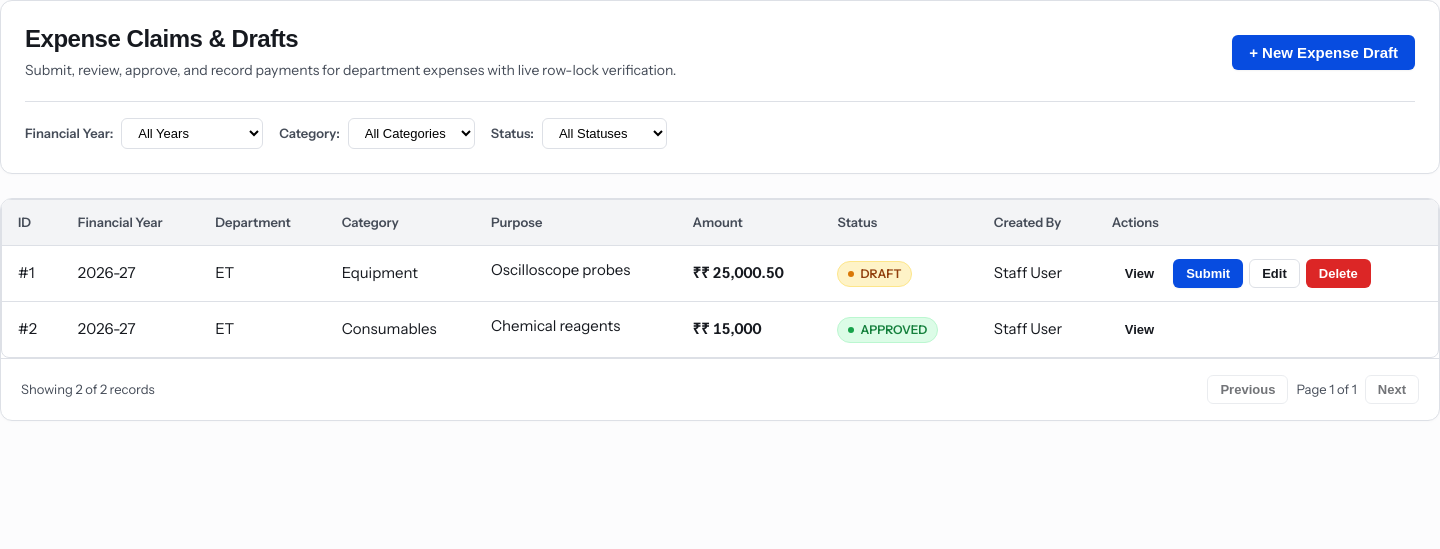
Test case: Expenses & Balances Frontend (Iteration 4a) › ExpensesPage Component › displays 409 INSUFFICIENT_BALANCE message clearly with requested and available figures
This screenshot has width=1440, height=549.
Click the button "Submit" at (1208, 273), box x1=1173 y1=259 x2=1243 y2=288
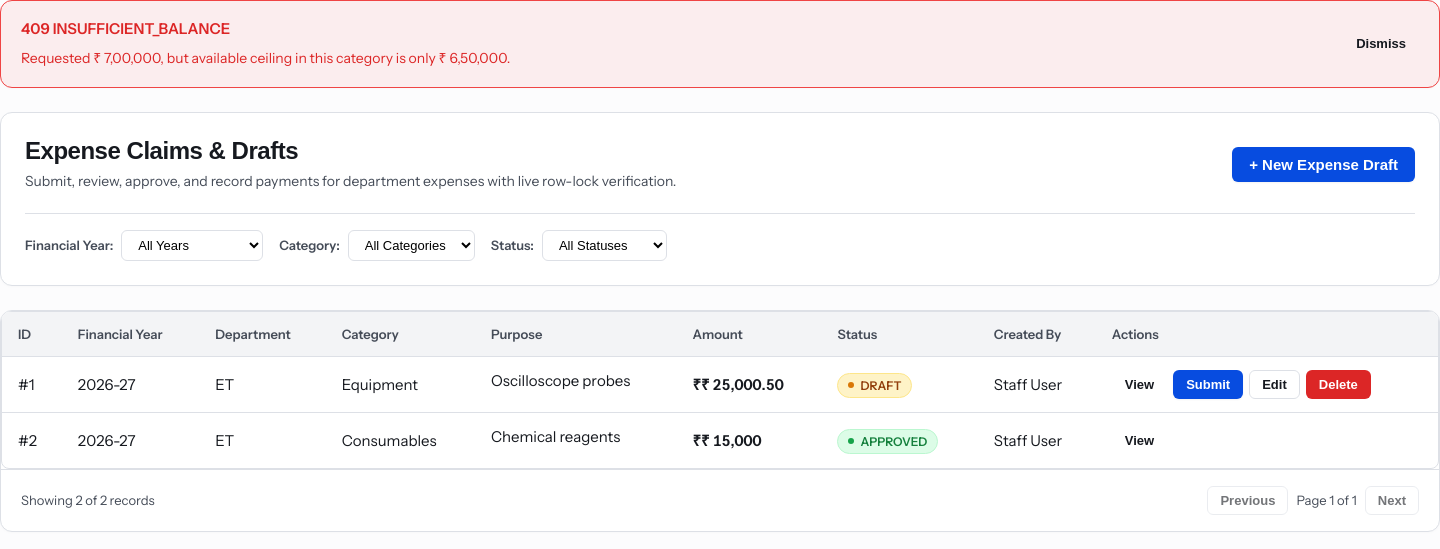
Result: the text "409 INSUFFICIENT_BALANCE" is shown at x1=21 y1=19 x2=230 y2=38
